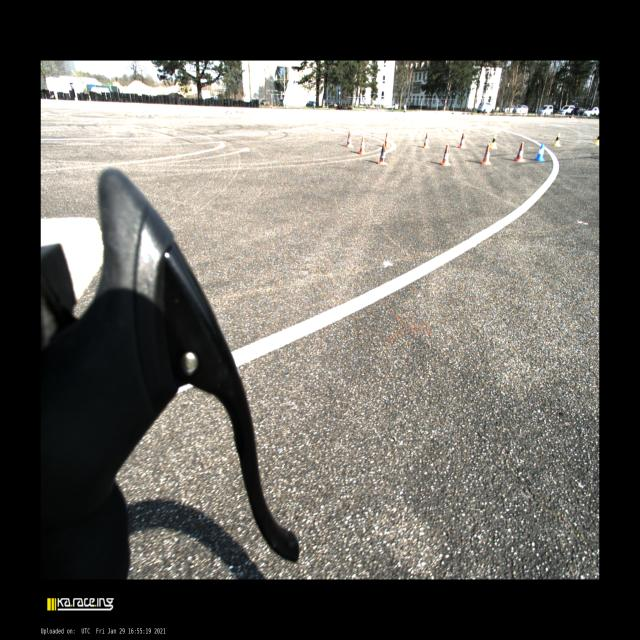blue_cone: (535, 143, 545, 162)
orange_cone: (441, 144, 452, 166), (514, 142, 526, 162), (378, 143, 388, 165), (481, 144, 491, 165), (346, 130, 354, 148), (358, 136, 366, 154), (422, 132, 430, 148), (458, 133, 466, 148), (384, 132, 390, 148)
yellow_cone: (490, 134, 498, 148), (554, 132, 561, 147), (594, 134, 599, 146), (598, 124, 599, 128)
